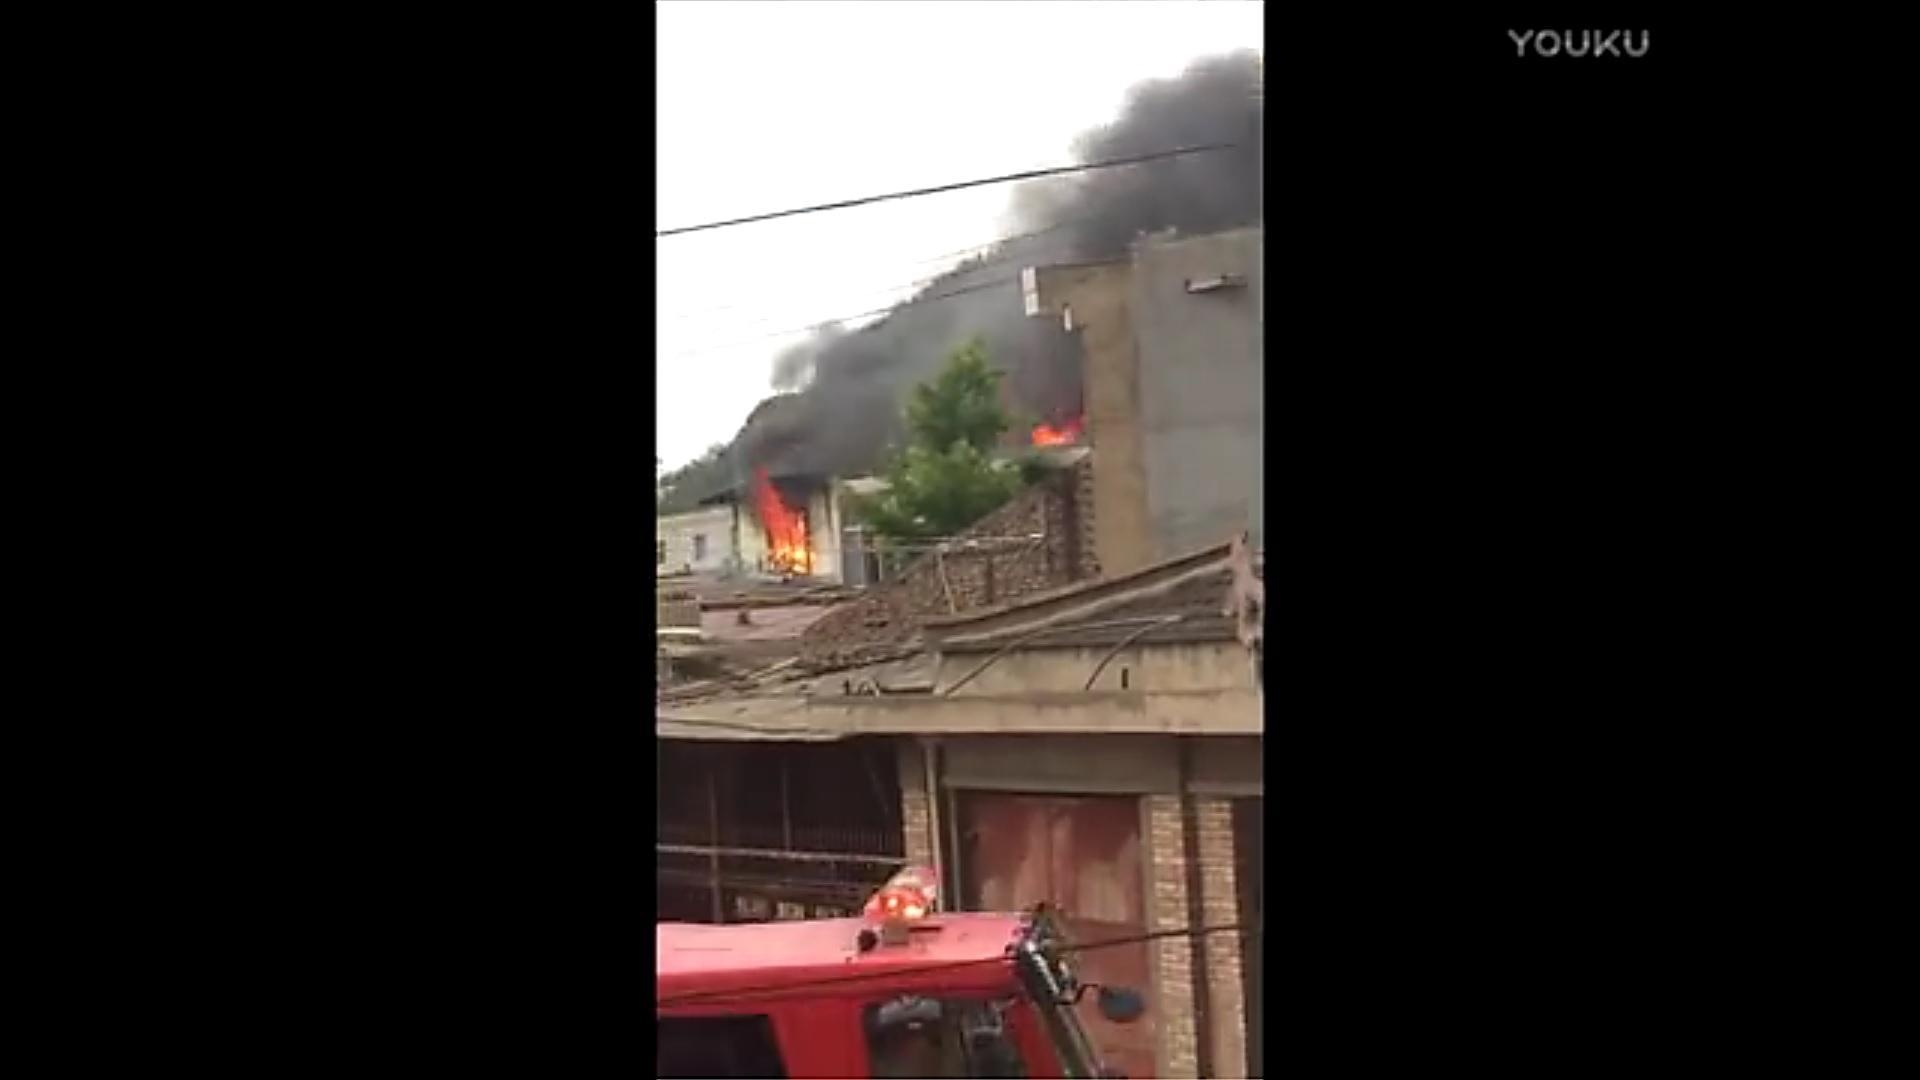fire: (750, 479, 818, 578), (1029, 414, 1087, 447)
